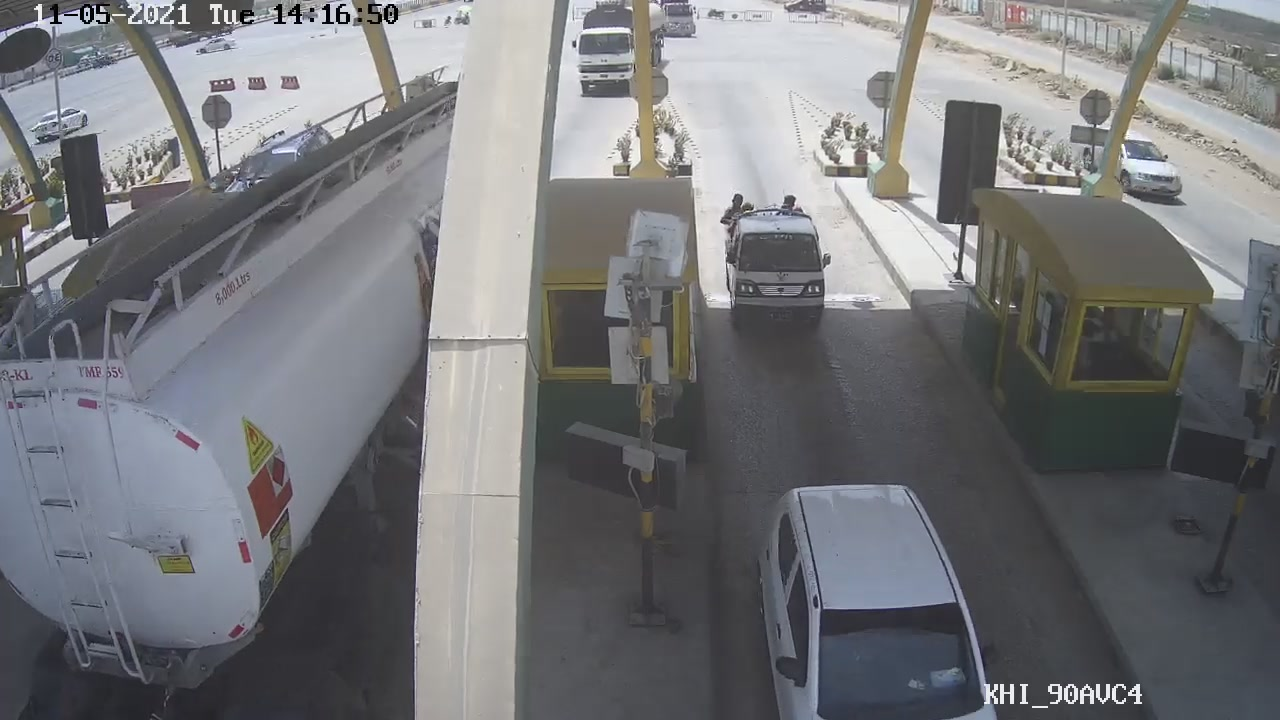F2: (719, 192, 837, 345)
